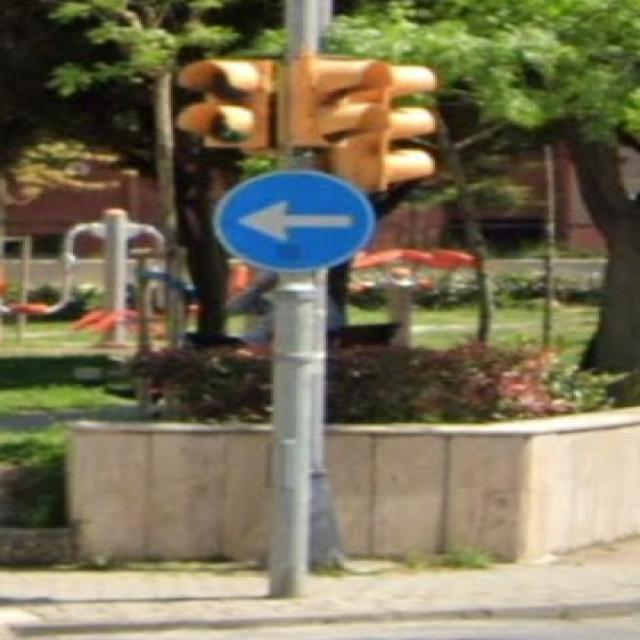Turn Left: (201, 170, 377, 275)
